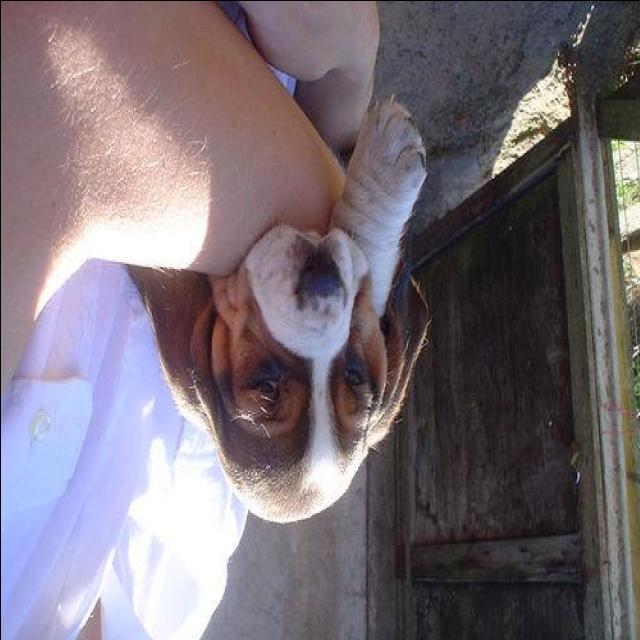basset: (130, 81, 434, 528)
